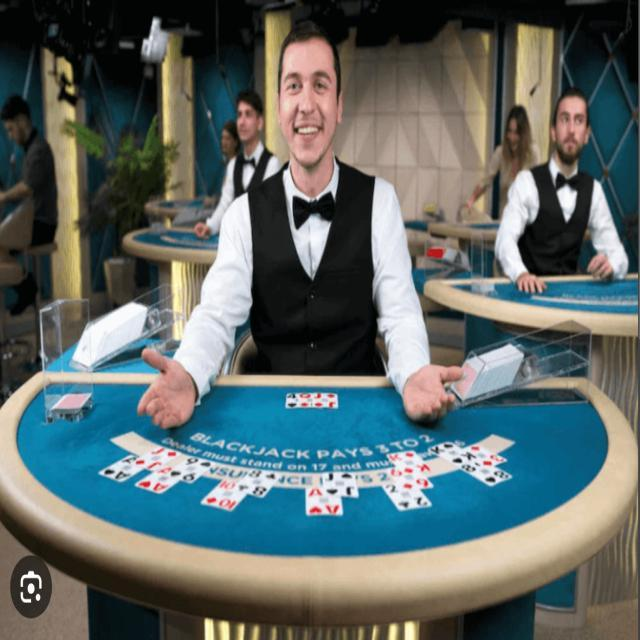Card-10: (200, 475, 246, 512)
Card-2: (383, 481, 430, 512)
Card-3: (466, 443, 506, 467)
Card-4: (285, 392, 299, 408)
Card-6: (387, 466, 433, 489)
Card-8: (238, 466, 280, 499), (460, 460, 510, 487)
Card-9: (168, 453, 217, 482)
Card-A: (97, 452, 142, 484), (134, 466, 177, 495), (304, 485, 342, 516)
Card-J: (135, 446, 179, 472), (322, 472, 357, 497), (314, 392, 338, 408)
Card-K: (429, 439, 473, 466), (389, 449, 430, 475)
Card-Q: (298, 392, 314, 407)
